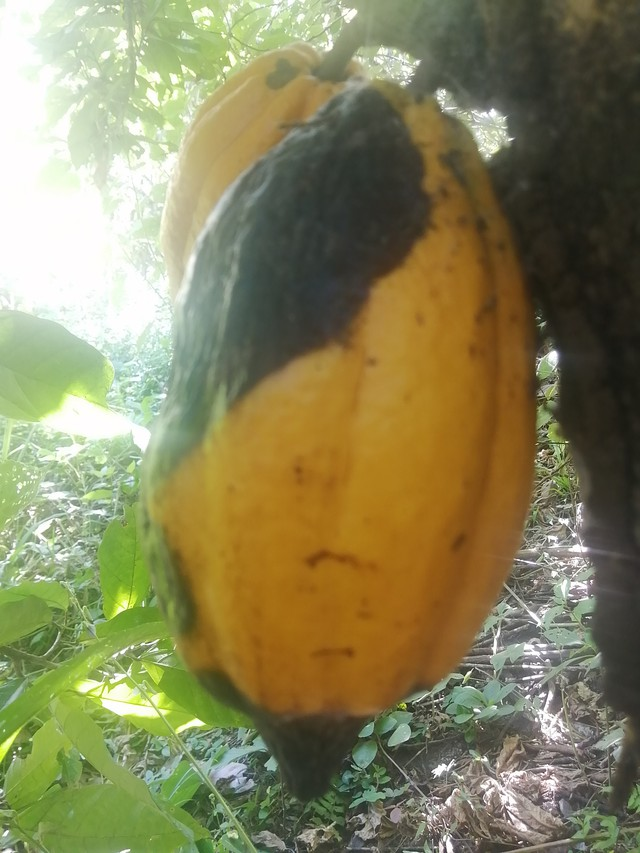phytophthora palmivora: (126, 61, 556, 816)
